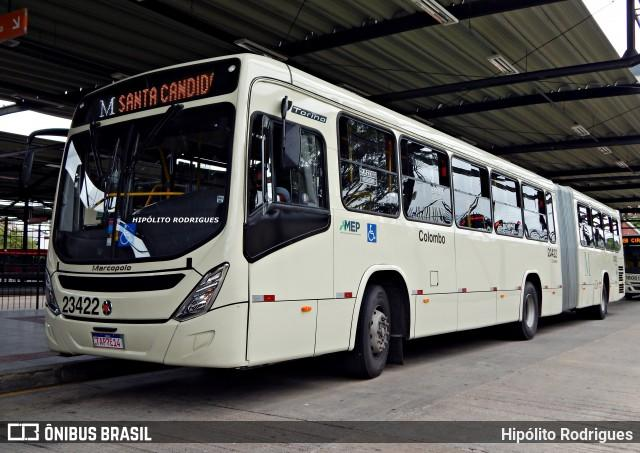SANTA CANDIDA: (115, 68, 219, 115)
